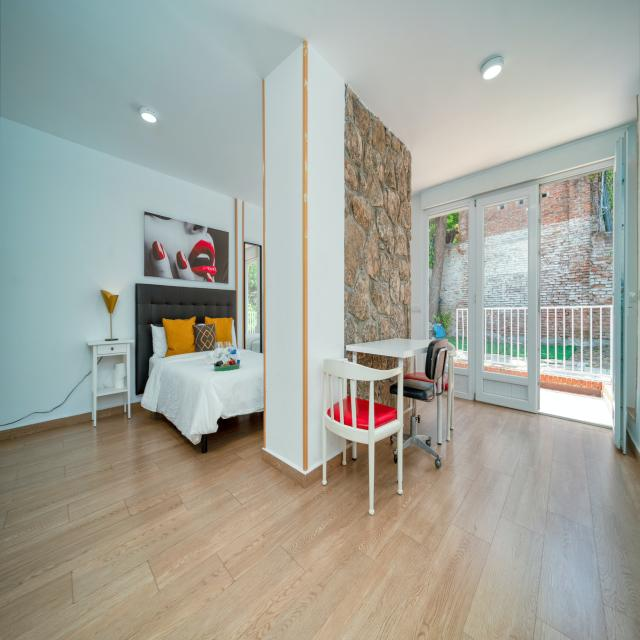floor: (0, 395, 640, 640)
wall: (0, 117, 236, 443), (261, 43, 305, 490), (345, 81, 412, 362), (305, 42, 346, 490), (421, 125, 629, 210), (244, 202, 264, 353), (411, 194, 427, 340), (629, 124, 637, 293), (626, 303, 636, 408), (373, 376, 397, 409), (356, 352, 399, 370), (238, 199, 243, 350), (357, 380, 370, 401), (403, 357, 411, 376), (403, 397, 411, 411), (347, 379, 351, 397)
